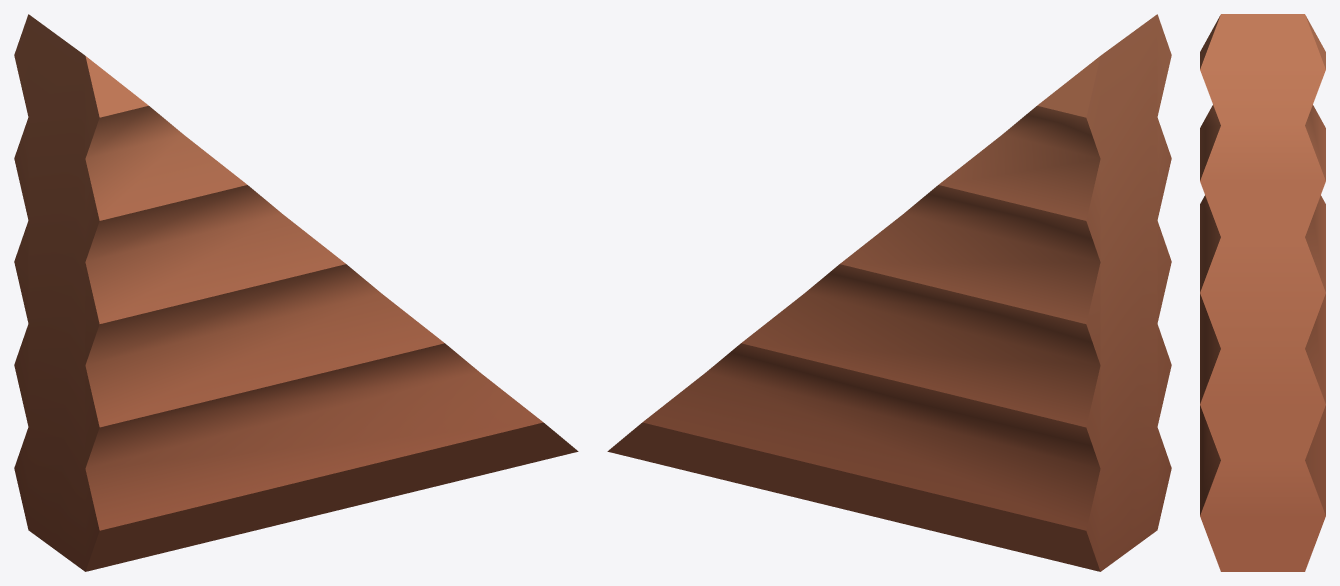
File: cabin-wall-roof.glb
3 views of the same model, side by side, from view 1: azimuth 30°, elevation 25°; view 2: azimuth 150°, elevation 25°; view 3: azimuth 270°, elevation 25° (orthographic). The views are drawn at different scales.
Visible parts, largest first — view 1: cabin-wall-roof; view 2: cabin-wall-roof; view 3: cabin-wall-roof.
Boxes of the visible parts, bbox=[...] form: cabin-wall-roof: bbox=[14, 14, 578, 571]; cabin-wall-roof: bbox=[607, 14, 1171, 571]; cabin-wall-roof: bbox=[1200, 14, 1325, 571].
Bounding box in the file's own units: 1 × 1 × 0.3.
